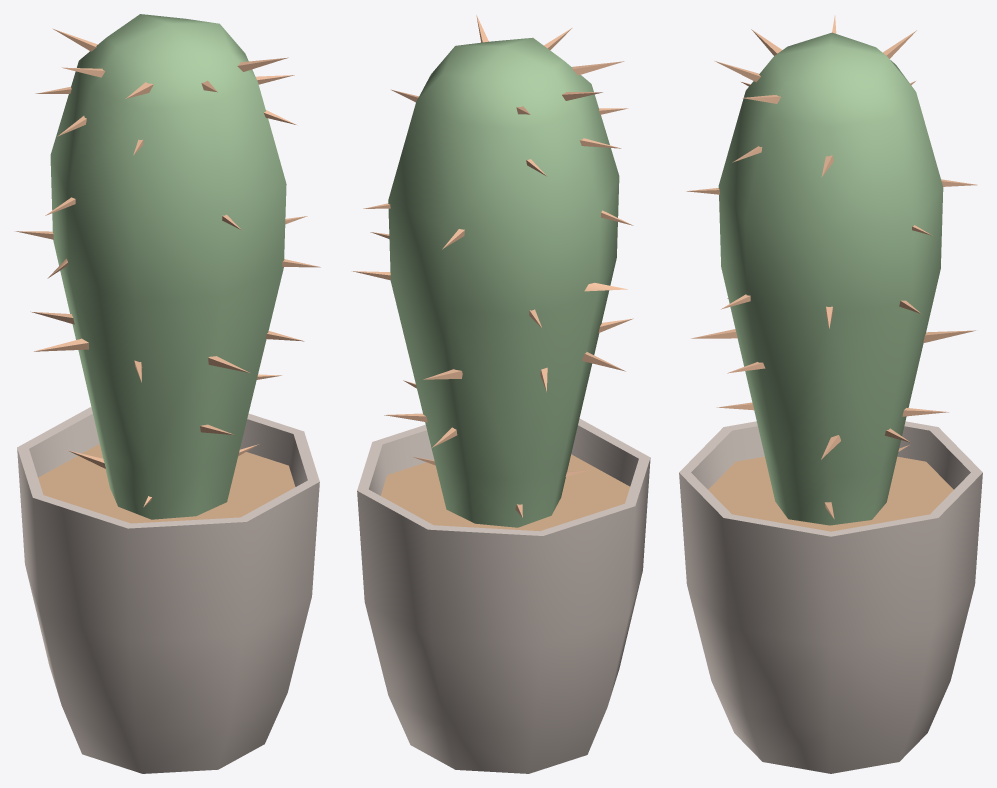
File: cactus.glb
3 views of the same model, side by side, from view 1: azimuth 30°, elevation 25°; view 2: azimuth 150°, elevation 25°; view 3: azimuth 270°, elevation 25° (orthographic). The views are drawn at different scales.
Parts seen in each view (by area): view 1: Houseplant_3; view 2: Houseplant_3; view 3: Houseplant_3.
Part boxes in pixels (left/top/right/bottom): Houseplant_3: left=14, top=14, right=320, bottom=773; Houseplant_3: left=352, top=15, right=650, bottom=773; Houseplant_3: left=679, top=15, right=982, bottom=773.
Size of the model in its own units: 0.3426 by 0.8449 by 0.3382.
